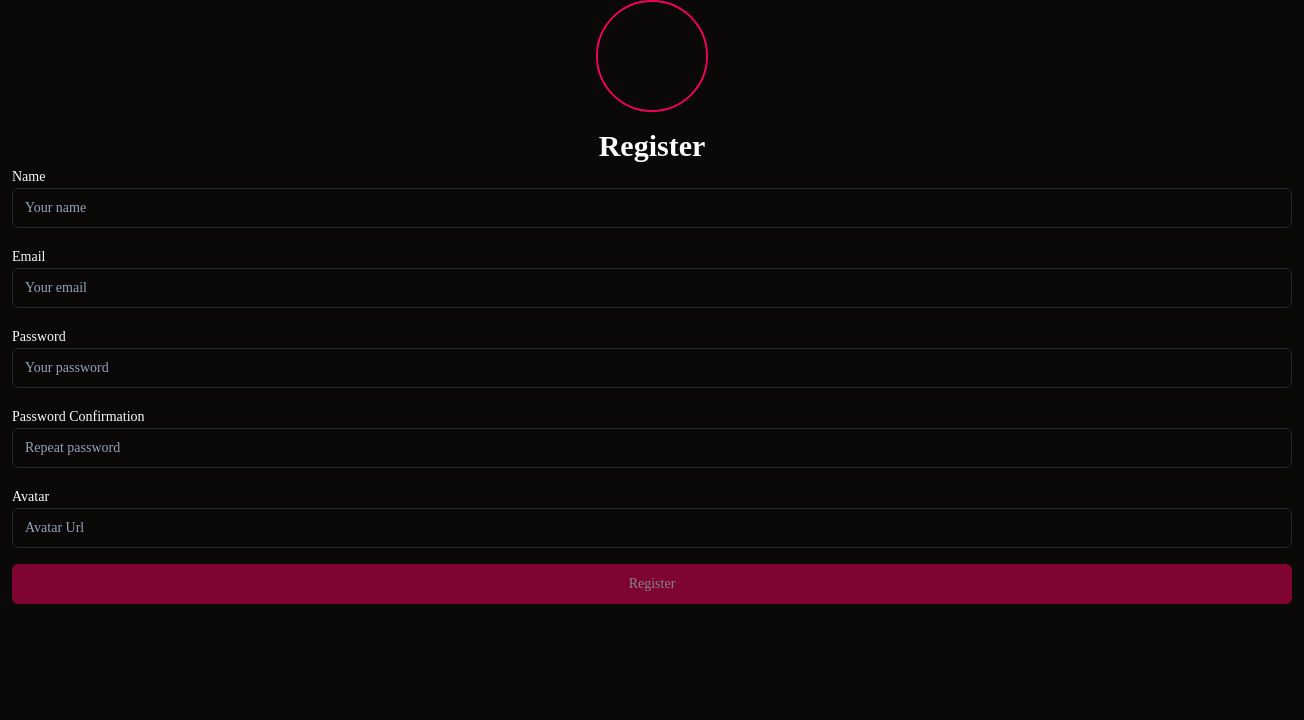
LoginForm › displays email errors
Type "test@gmail.com" into the field with placeholder "Your email" at (652, 288), box [12,268,1292,308]
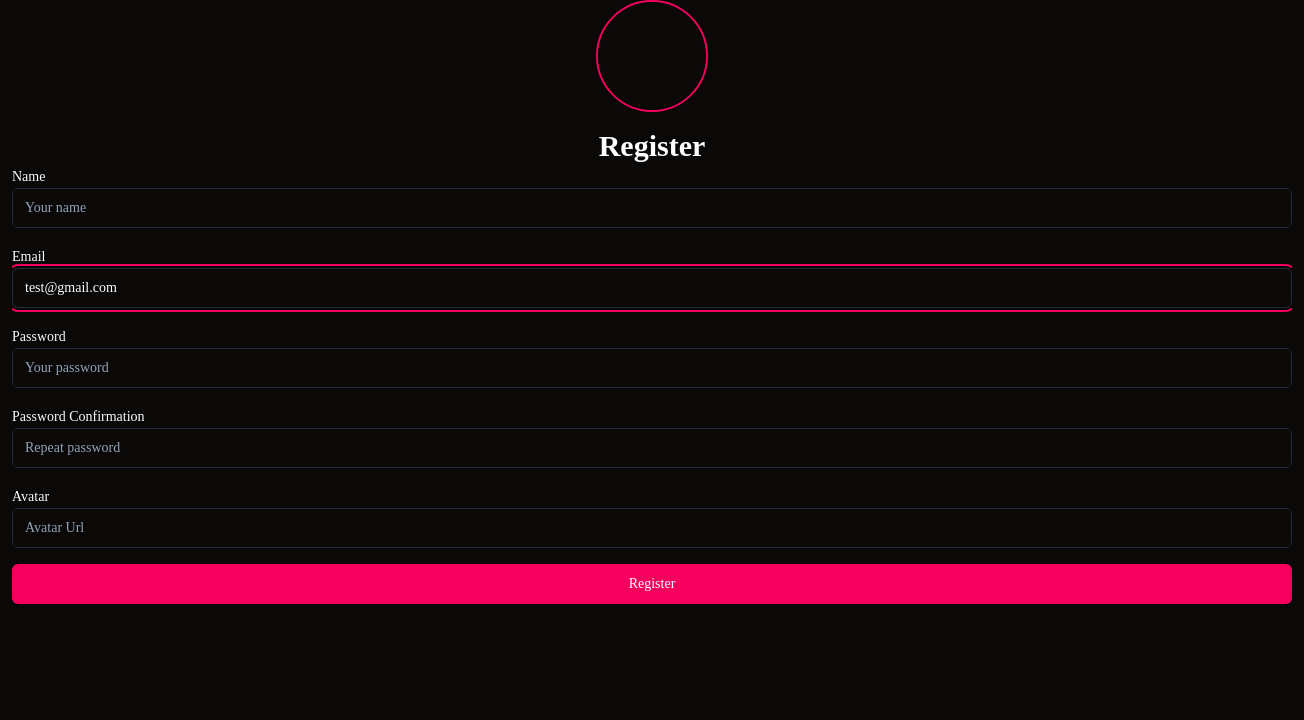
Click the button "Register" at (652, 584), box [12,564,1292,604]
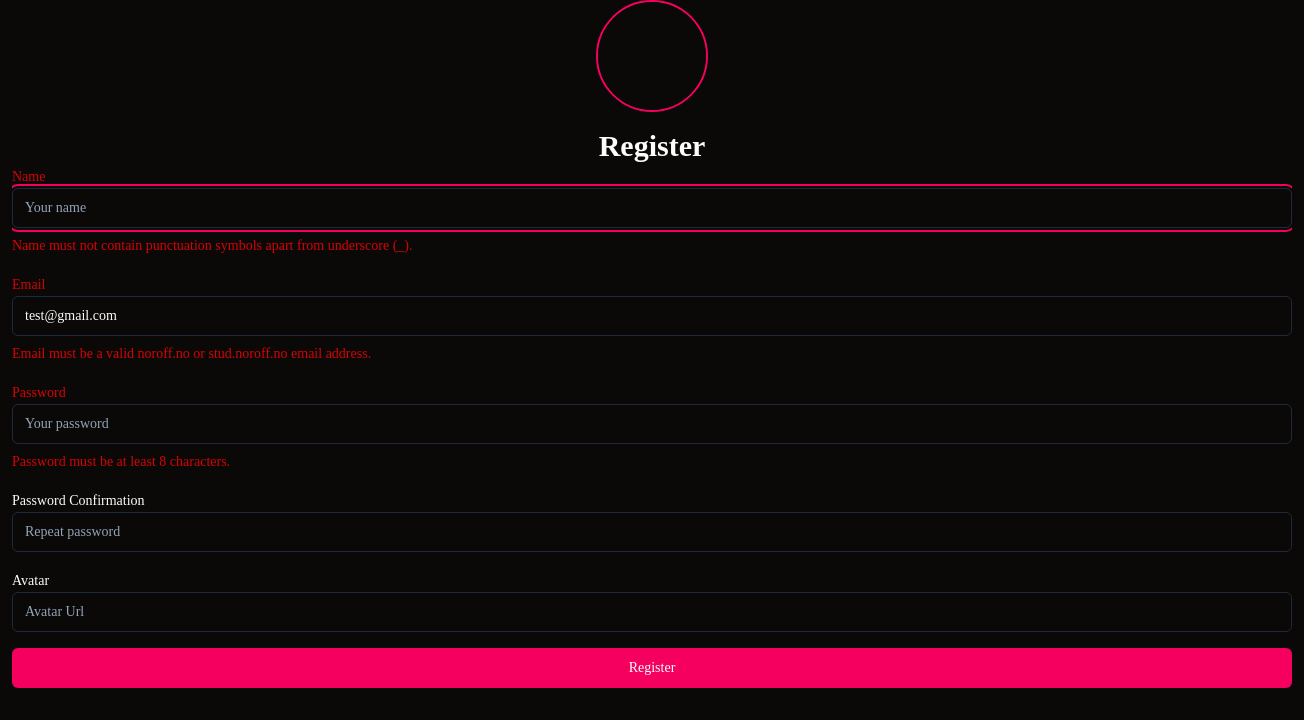
Result: the text "Email must be a valid noroff.no or stud.noroff.no email address." is shown at [12,346,371,361]
